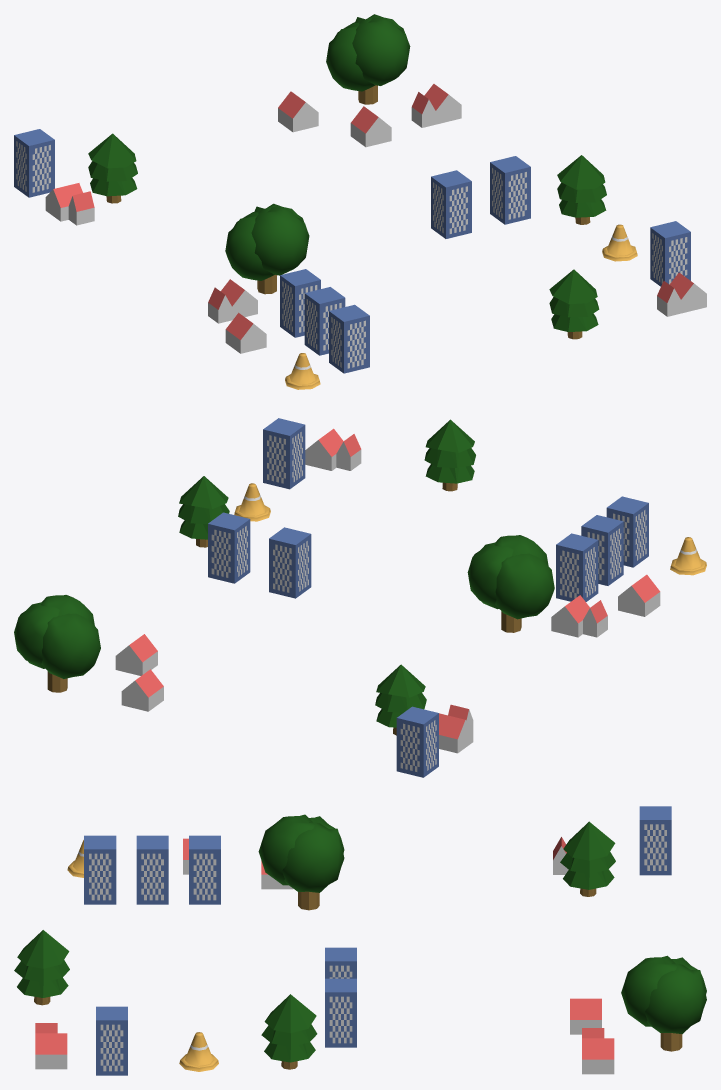
The model's file is DecoAll.dae.
3 views of the same model, one above another, from view 1: azimuth 30°, elevation 25°; view 2: azimuth 150°, elevation 25°; view 3: azimuth 270°, elevation 25° (orthographic). The views are drawn at different scales.
Visible parts, largest first — view 1: DecoAll; view 2: DecoAll; view 3: DecoAll.
Part boxes in pixels (<box>): DecoAll: <box>14,14,706,389</box>; DecoAll: <box>14,418,706,777</box>; DecoAll: <box>14,806,706,1075</box>.
Size of the model in its own units: 1.6 by 2.16 by 0.3035.
